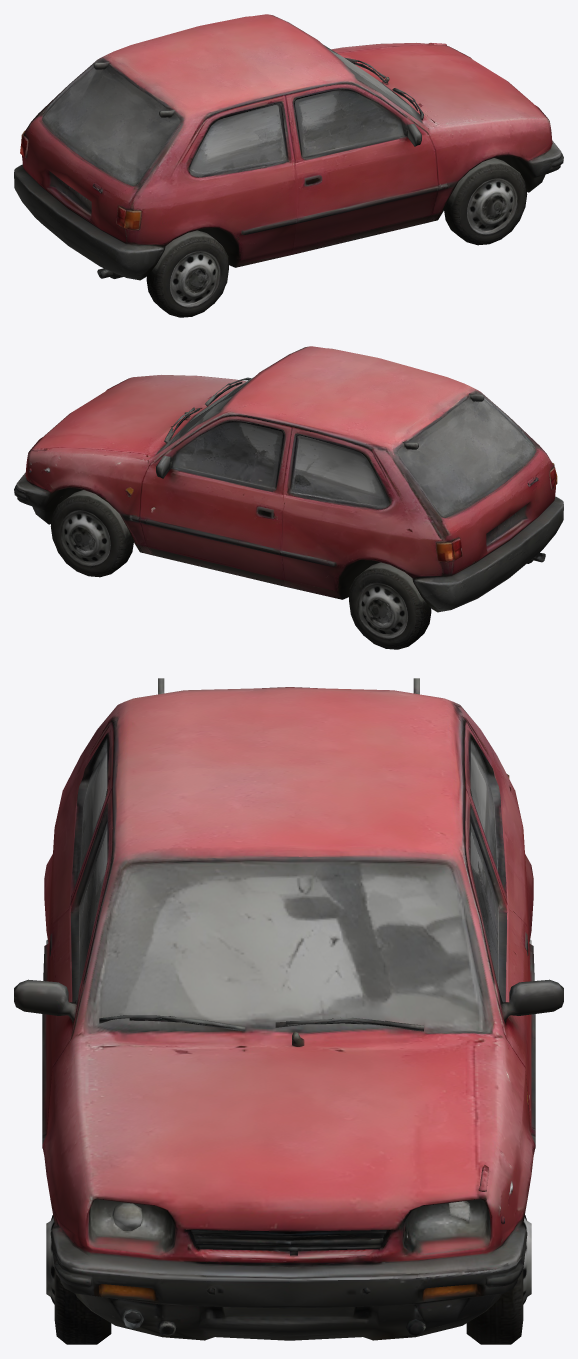
The model's file is damaged_repair_car.glb.
3 views of the same model, one above another, from view 1: azimuth 30°, elevation 25°; view 2: azimuth 150°, elevation 25°; view 3: azimuth 270°, elevation 25° (orthographic). The views are drawn at different scales.
Parts seen in each view (by area): view 1: tripo_node_e0ba38e5-cbad-40e5-aa68-c150dd8bfddb; view 2: tripo_node_e0ba38e5-cbad-40e5-aa68-c150dd8bfddb; view 3: tripo_node_e0ba38e5-cbad-40e5-aa68-c150dd8bfddb.
Boxes of the visible parts, left/top/right/bottom form: tripo_node_e0ba38e5-cbad-40e5-aa68-c150dd8bfddb: left=14, top=14, right=563, bottom=317; tripo_node_e0ba38e5-cbad-40e5-aa68-c150dd8bfddb: left=14, top=346, right=563, bottom=649; tripo_node_e0ba38e5-cbad-40e5-aa68-c150dd8bfddb: left=14, top=678, right=563, bottom=1344.
Bounding box in the file's own units: 0.998 × 0.4082 × 0.5293.
Materials: 1 (1 with a texture image).
